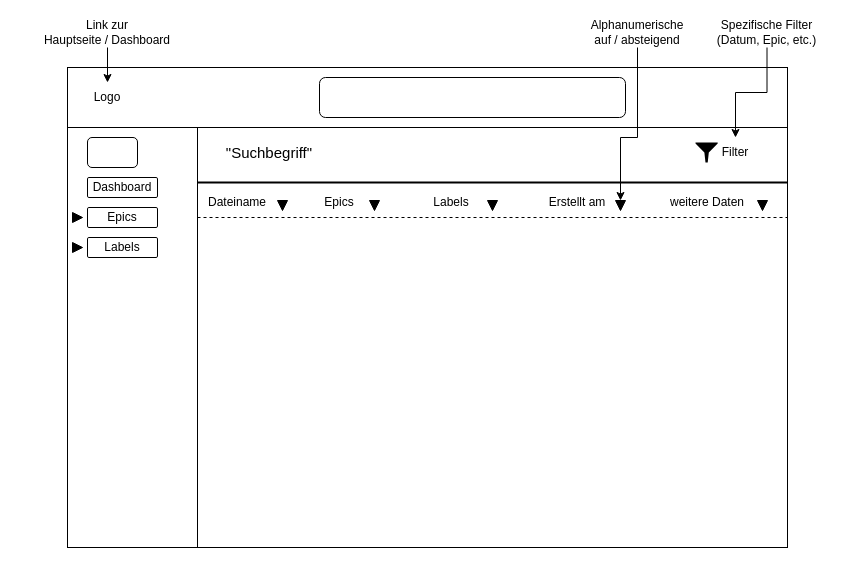
This 851x565 diagram has some shape labels left out. Each missing label, with the centre of its shape:
+ Neu: [112,152]
Suche: [472,97]
